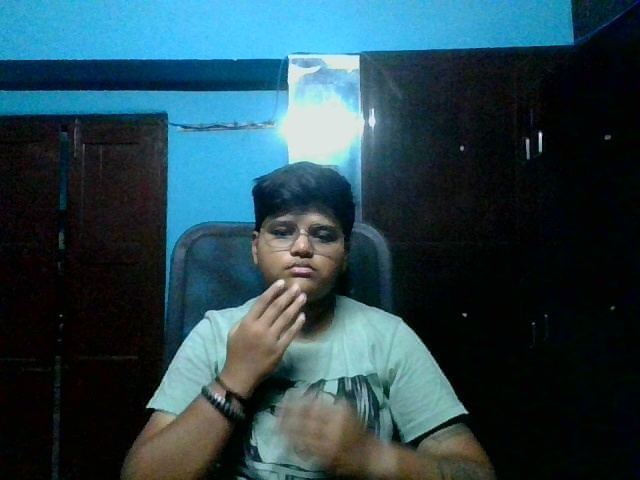THANKS: (215, 157, 361, 384)
